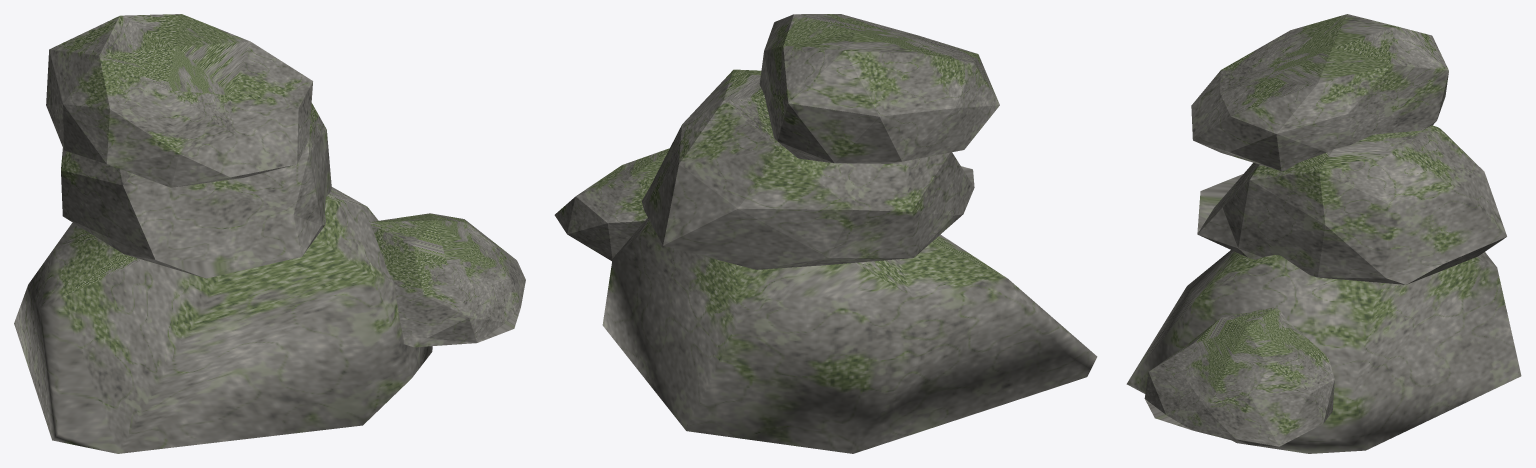
File: rock_highlands_tor_a_lod2.glb
The picture shows the model from 3 angles, left to right: view 1: azimuth 30°, elevation 25°; view 2: azimuth 150°, elevation 25°; view 3: azimuth 270°, elevation 25°; orthographic projection. The views are drawn at different scales.
Parts seen in each view (by area): view 1: rock_highlands_tor_a; view 2: rock_highlands_tor_a; view 3: rock_highlands_tor_a.
Boxes of the visible parts, x1,y1,x2,y2 form: rock_highlands_tor_a: (14,14,525,453); rock_highlands_tor_a: (554,14,1097,453); rock_highlands_tor_a: (1126,14,1521,453).
Bounding box in the file's own units: 2.93 × 1.9 × 2.18.
Materials: 1 (1 with a texture image).
